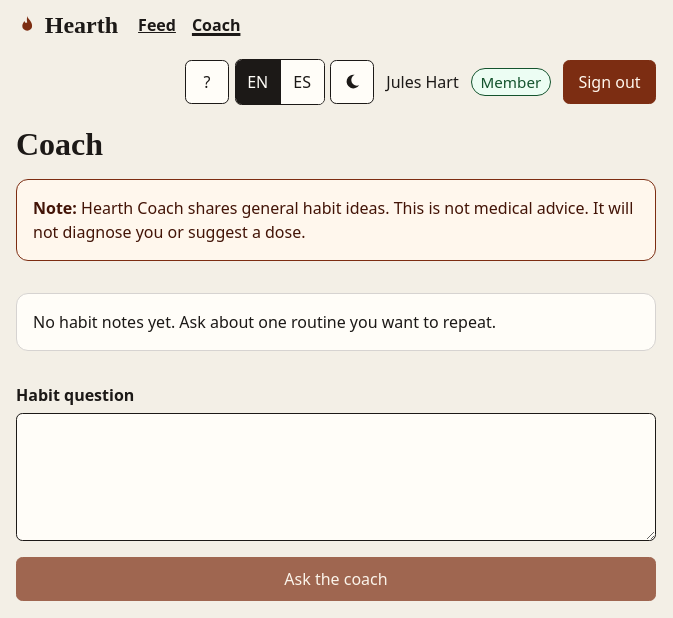
Test: coach notice › shows the same habit boundary in Spanish
Click the button with aria-label "Spanish".
click(302, 82)  # box [280, 60, 324, 104]
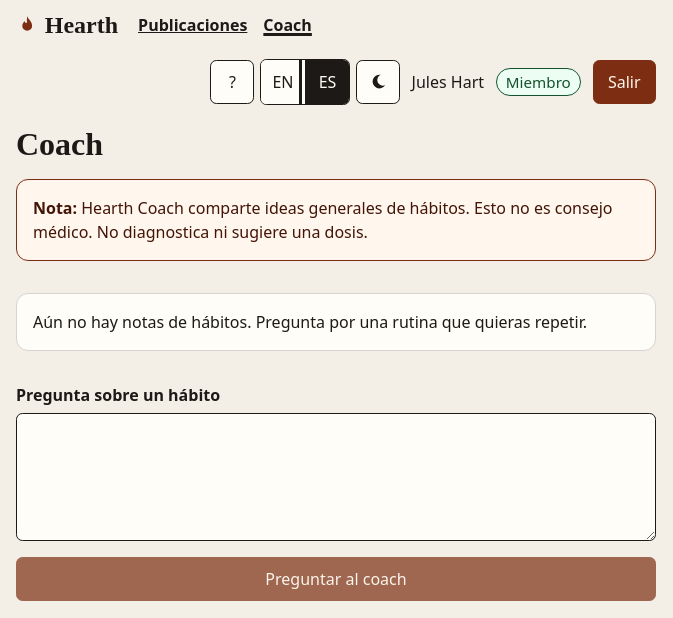
Expected: the element that starts with "Nota:" shows "no es consejo médico", [33, 197, 612, 243]
Expected: the element that starts with "Nota:" shows "no diagnostica", [33, 197, 612, 243]
Expected: the element that starts with "Nota:" shows "ni sugiere una dosis", [33, 197, 612, 243]
